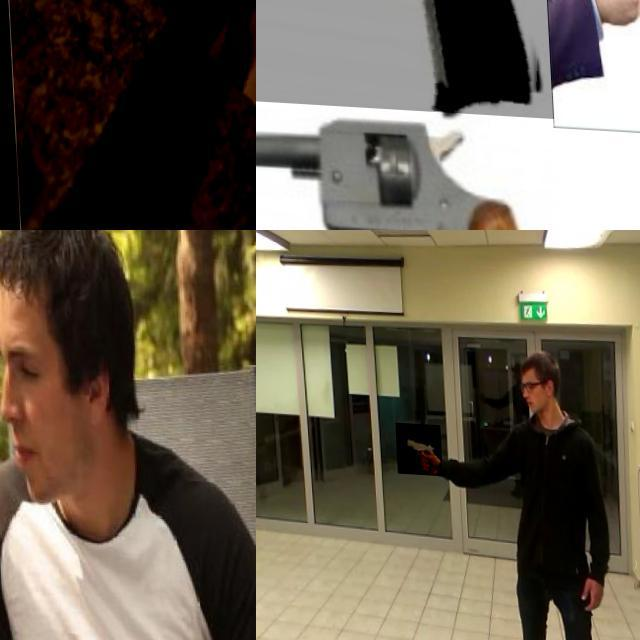-: (0, 497, 41, 640)
gun-knife-thesis - v11 Yolov5 augmented: (1, 0, 256, 230), (256, 0, 550, 162), (256, 110, 554, 230), (392, 419, 439, 472)
